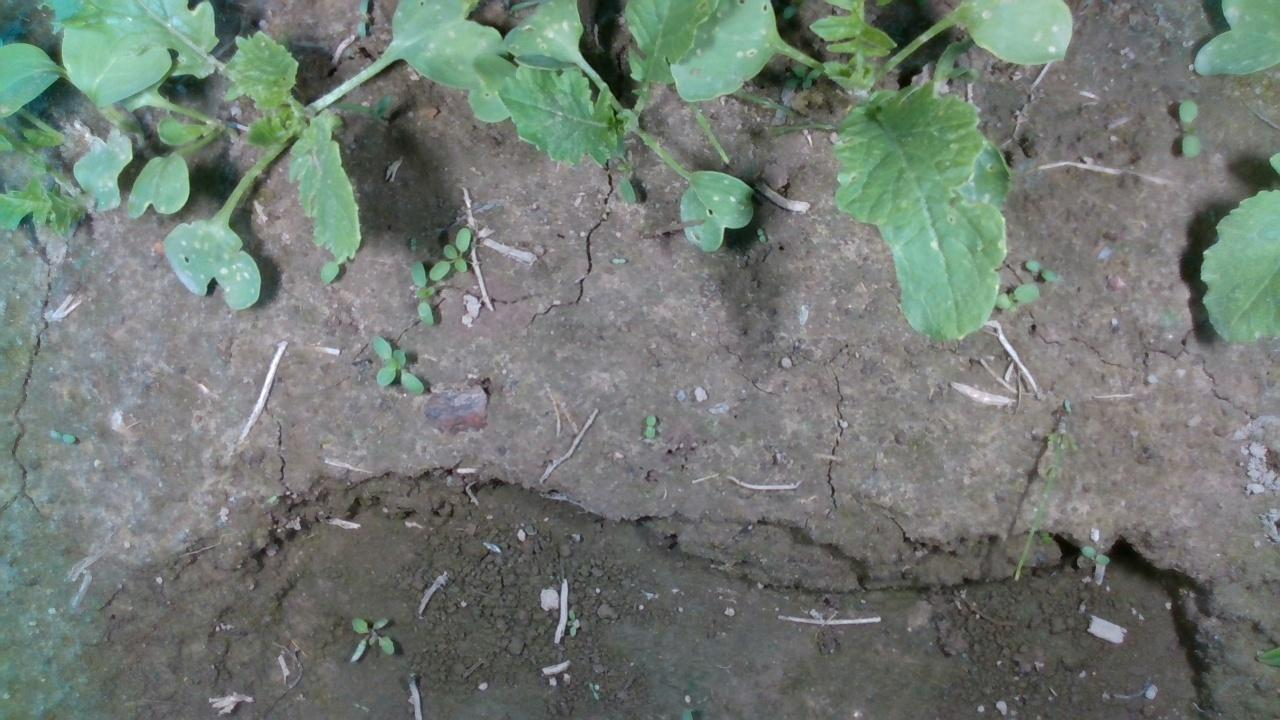weed: (369, 334, 423, 396), (348, 615, 395, 666), (1175, 98, 1202, 159), (1022, 257, 1058, 284), (1080, 543, 1110, 565), (47, 427, 76, 444), (643, 413, 656, 439), (754, 227, 766, 243)
